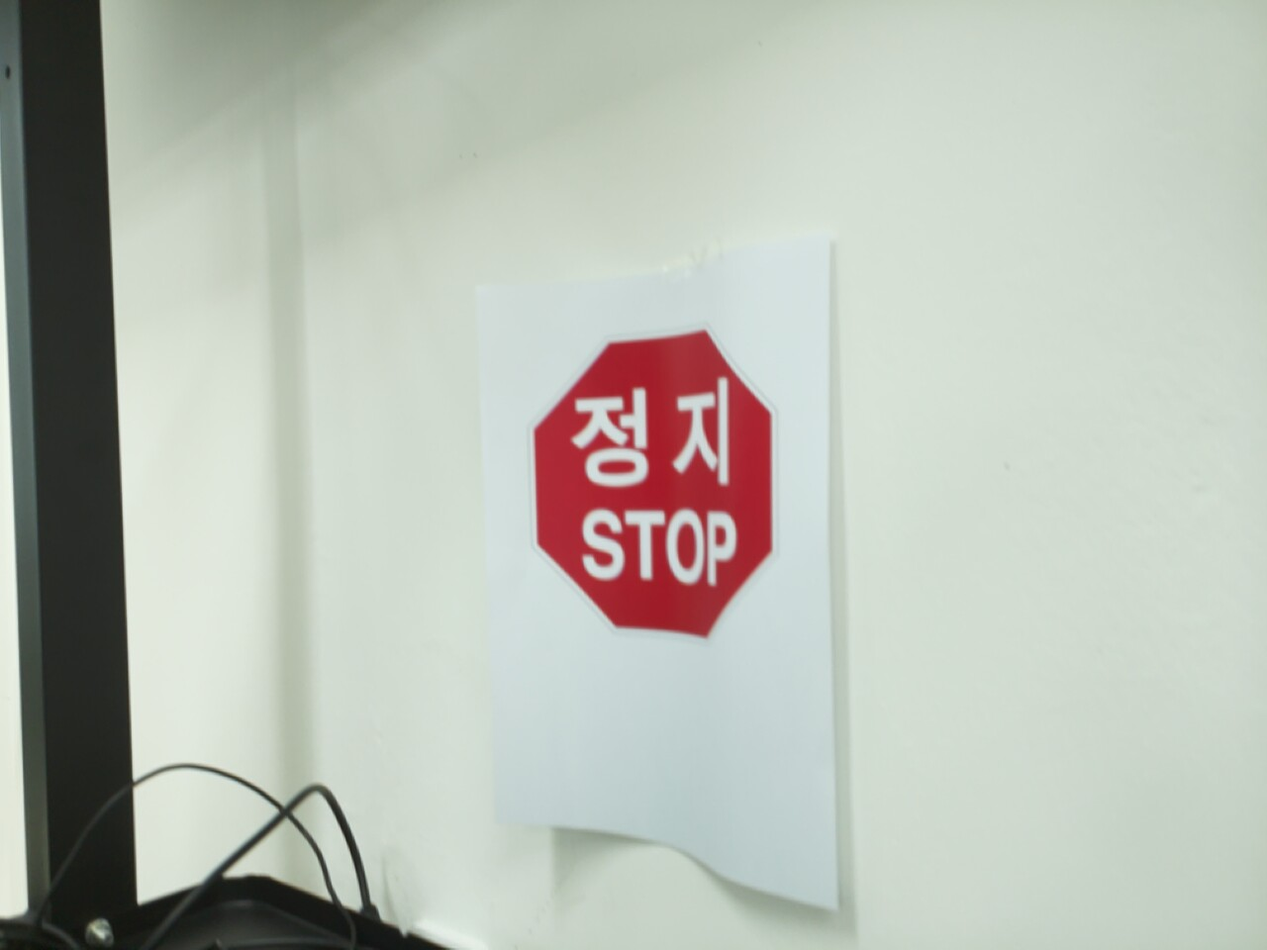stop: (525, 320, 782, 648)
